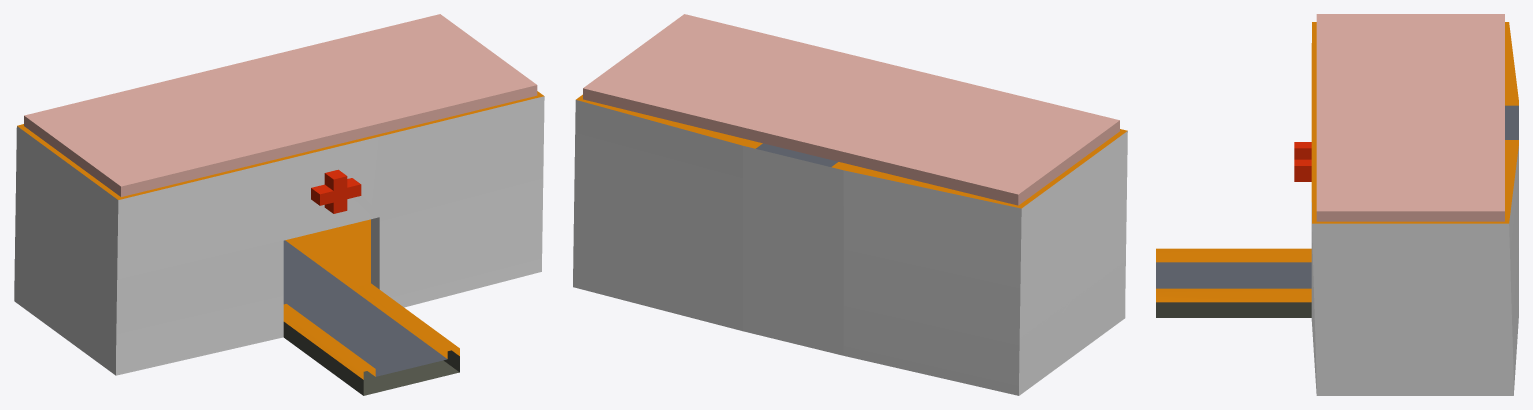
File: hospital.fbx
The picture shows the model from 3 angles, left to right: view 1: azimuth 30°, elevation 25°; view 2: azimuth 150°, elevation 25°; view 3: azimuth 270°, elevation 25°; orthographic projection. The views are drawn at different scales.
Visible parts, largest first — view 1: Cube.012; view 2: Cube.012; view 3: Cube.012.
Boxes of the visible parts, left/top/right/bottom form: Cube.012: left=14, top=14, right=544, bottom=395; Cube.012: left=573, top=14, right=1127, bottom=395; Cube.012: left=1156, top=14, right=1518, bottom=395.
Bounding box in the file's own units: 2766 × 1166 × 2100.
